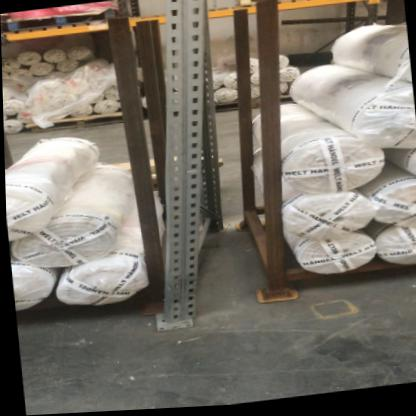vertical_damage: (143, 266, 216, 337)
